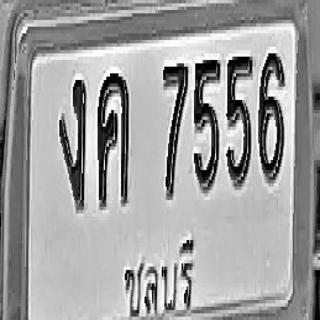A04: (97, 70, 129, 207)
A07: (59, 77, 86, 210)
N05: (193, 57, 220, 190), (226, 53, 252, 187)
N06: (258, 50, 284, 183)
N07: (162, 62, 188, 198)
P13: (119, 223, 198, 320)
